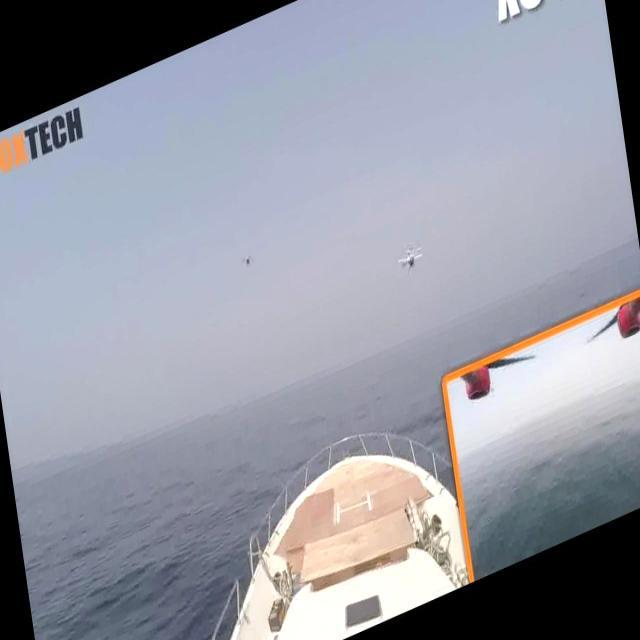drone: (391, 228, 434, 286), (240, 240, 257, 276)
